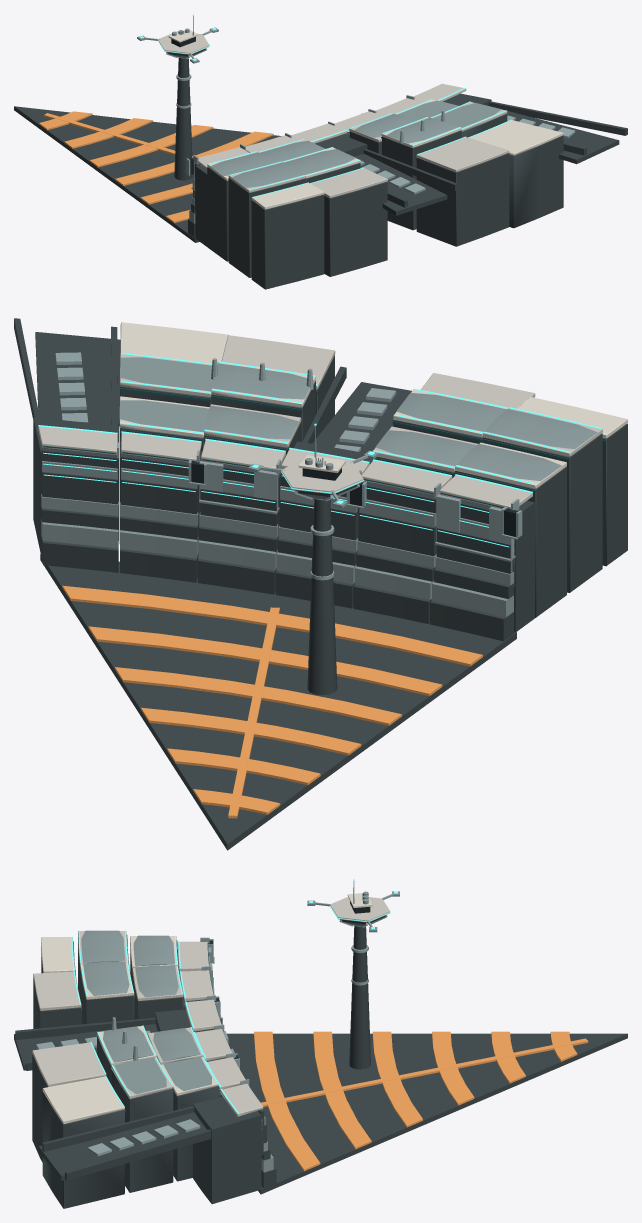
The model's file is Weather_Lung_Sector_09.glb.
3 views of the same model, one above another, from view 1: azimuth 30°, elevation 25°; view 2: azimuth 150°, elevation 25°; view 3: azimuth 270°, elevation 25° (orthographic). The views are drawn at different scales.
Parts seen in each view (by area): view 1: Weather_Lung_Sector_09; view 2: Weather_Lung_Sector_09; view 3: Weather_Lung_Sector_09.
Part boxes in pixels (bbox=[...]): Weather_Lung_Sector_09: bbox=[14, 14, 627, 289]; Weather_Lung_Sector_09: bbox=[14, 318, 627, 850]; Weather_Lung_Sector_09: bbox=[14, 879, 627, 1208].
Size of the model in its own units: 6869 by 2883 by 8253.
